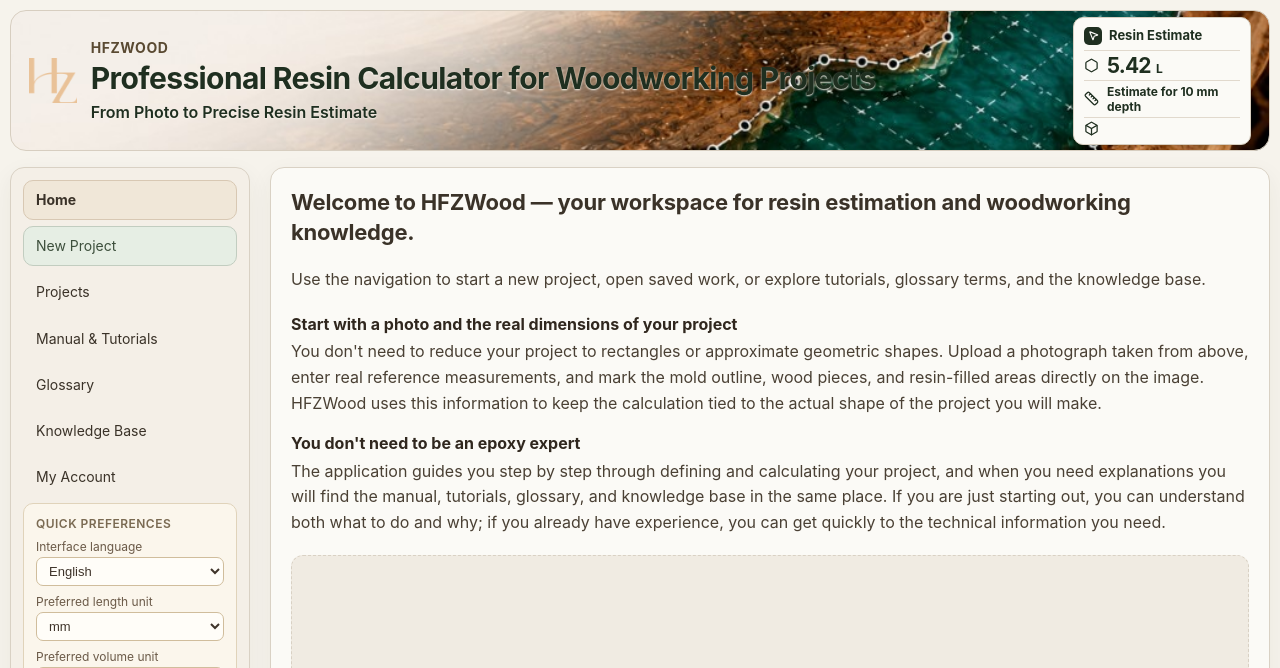
Test: Preferences reachability and language switching › reaches Application Preferences from Home and applies a language change
Click the link "My Account": (76, 477) [36,468,116,485]
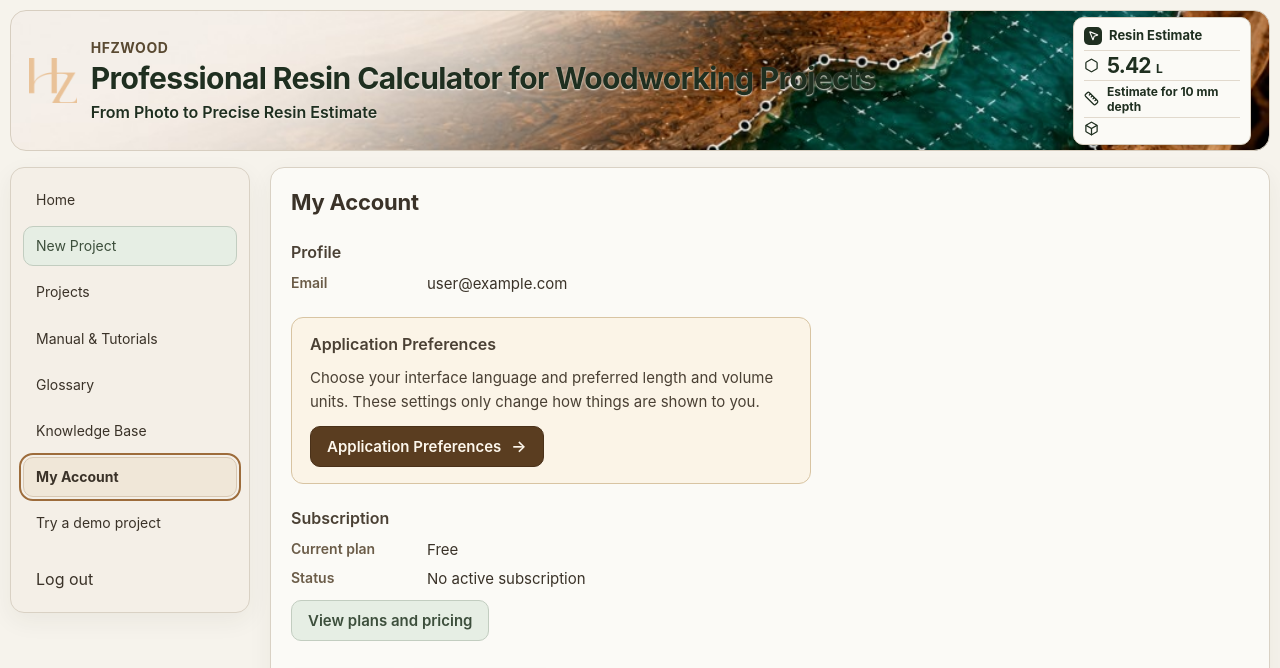
Click the link "Application Preferences →": (427, 446) [310,426,544,467]
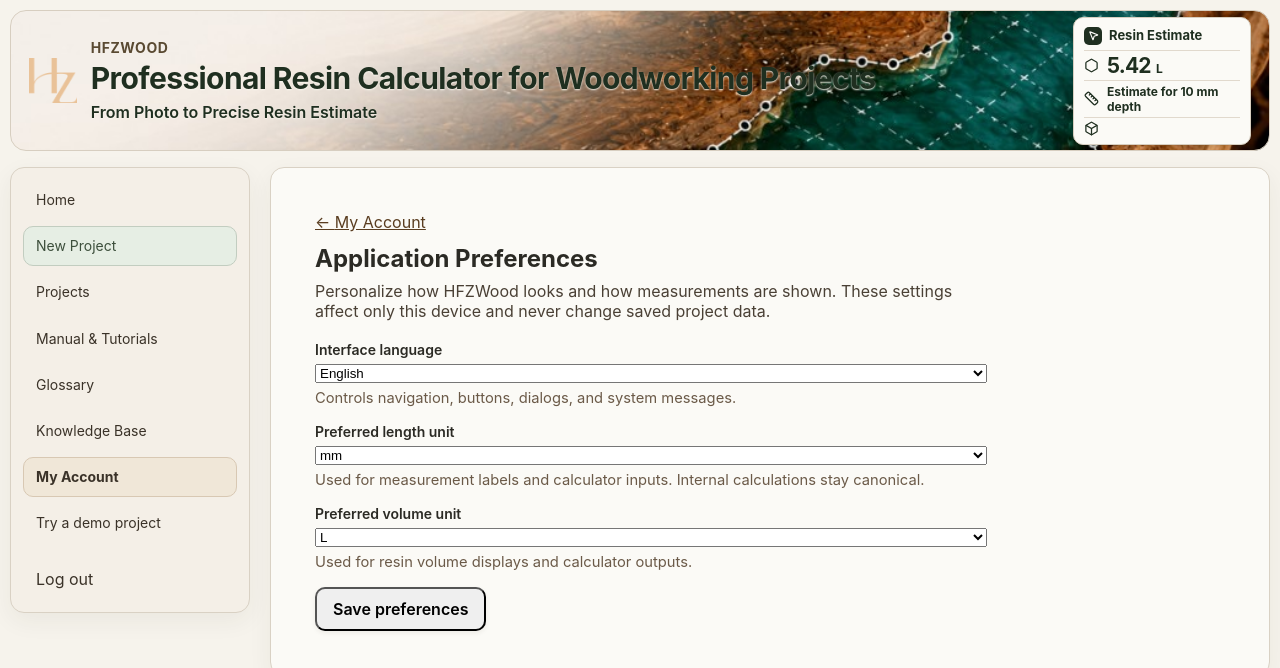
Result: the heading "Application Preferences" is shown at [315,244,598,273]
Select "Română" in the 1st dropdown: (651, 374) [315,364,987,383]
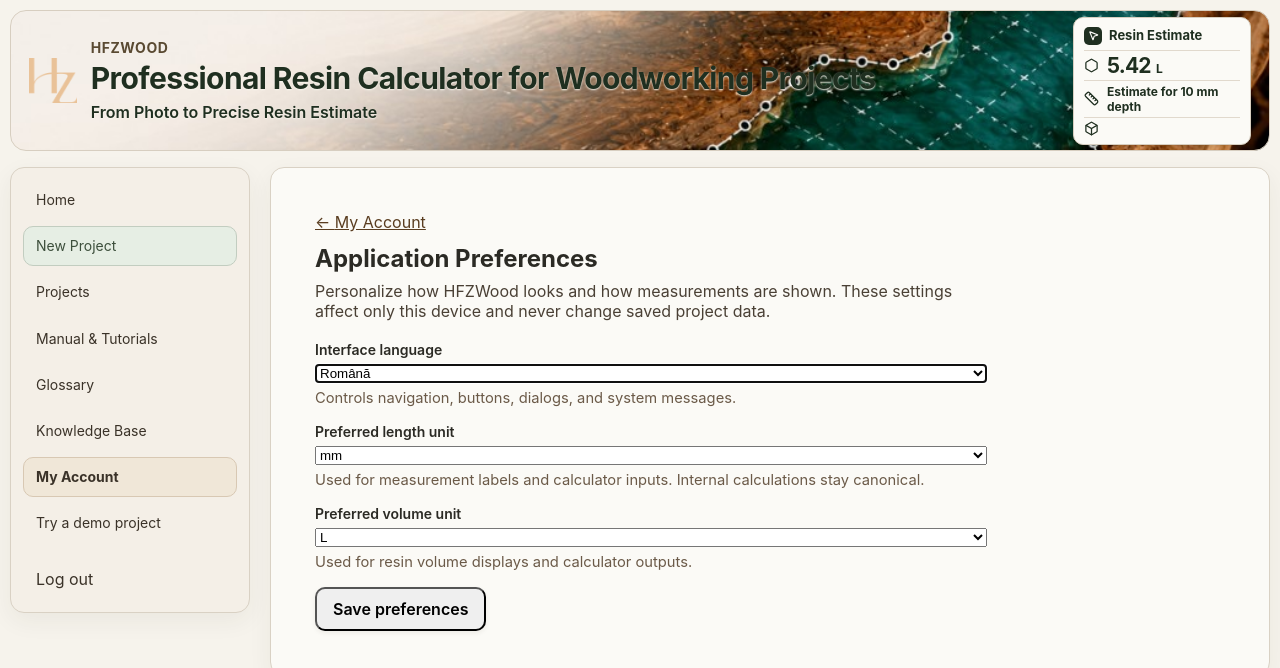
Click the button "Save preferences": (401, 609) [315,587,486,631]
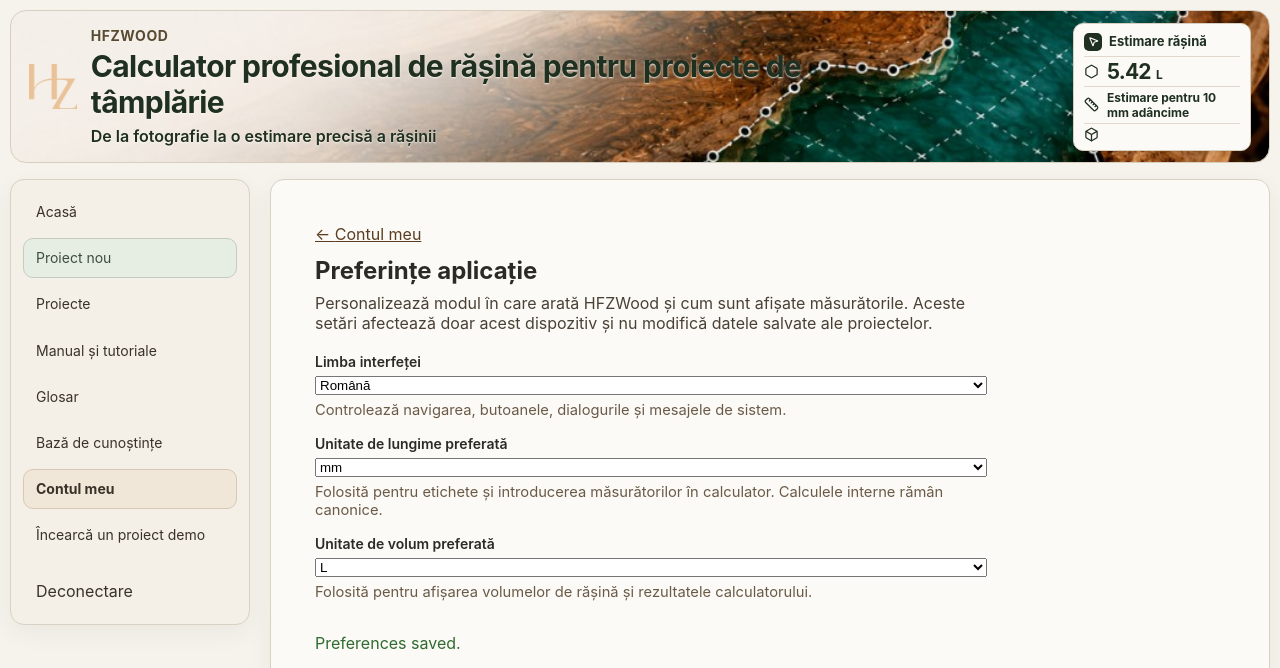
Result: the heading "Preferințe aplicație" is shown at [315,256,537,285]
Result: the link "Proiect nou" is shown at [23,238,237,278]
Result: the link "Contul meu" is shown at [23,469,237,509]
